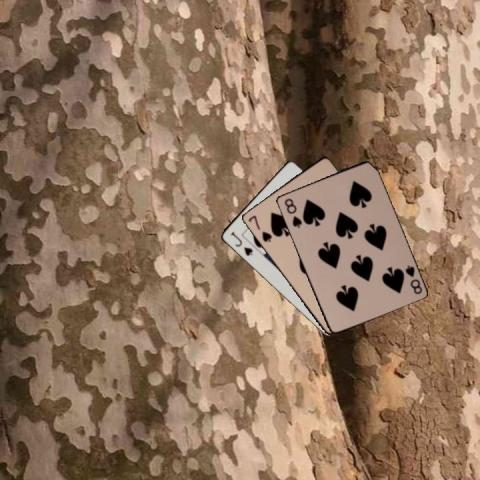7s: (246, 212, 274, 243)
8s: (282, 196, 304, 229), (402, 262, 423, 295)
Js: (227, 229, 254, 257)
